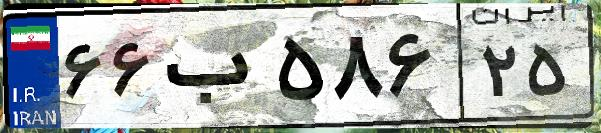2: (475, 38, 525, 113)
5: (270, 28, 330, 110), (525, 38, 570, 115)
6: (385, 28, 445, 110), (57, 26, 110, 100), (110, 28, 158, 98)
8: (330, 28, 385, 110)
ب: (158, 20, 270, 120)
